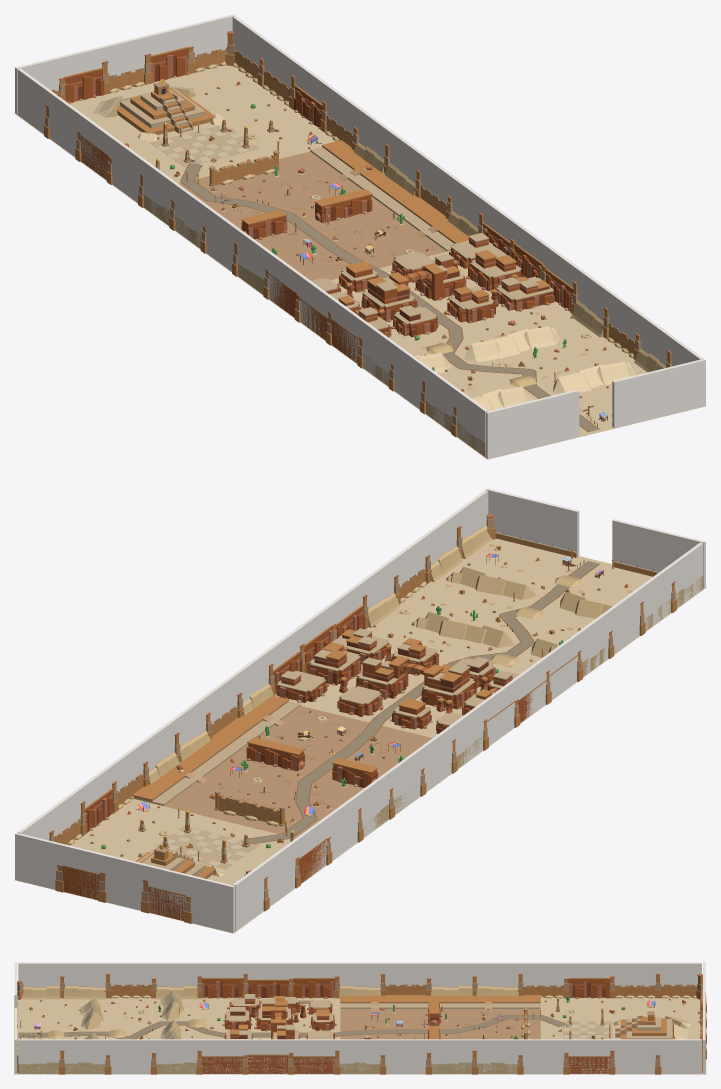
Rendered from CatCafe_Desert_Set.glb.
3 renders of one model, top to bottom at view 1: azimuth 30°, elevation 25°; view 2: azimuth 150°, elevation 25°; view 3: azimuth 270°, elevation 25°, orthographic. The views are drawn at different scales.
Parts seen in each view (by area): view 1: CatCafe_Desert_Set_075_Walls_Barrier, CatCafe_Desert_Set, CatCafe_Desert_Set_081_Canyon, CatCafe_Desert_Set_099_Terraces, CatCafe_Desert_Set_157_Pyramid, CatCafe_Desert_Set_100_MesaRidge, CatCafe_Desert_Set_076_DuneRidge, CatCafe_Desert_Set_077_DuneRidge, CatCafe_Desert_Set_101_RuinWall, CatCafe_Desert_Set_006_WallMesa, CatCafe_Desert_Set_002_WallMesa, CatCafe_Desert_Set_062_WallMesa (+2 smaller); view 2: CatCafe_Desert_Set_075_Walls_Barrier, CatCafe_Desert_Set, CatCafe_Desert_Set_081_Canyon, CatCafe_Desert_Set_099_Terraces, CatCafe_Desert_Set_100_MesaRidge, CatCafe_Desert_Set_076_DuneRidge, CatCafe_Desert_Set_077_DuneRidge, CatCafe_Desert_Set_157_Pyramid, CatCafe_Desert_Set_101_RuinWall, CatCafe_Desert_Set_002_WallMesa, CatCafe_Desert_Set_006_WallMesa, CatCafe_Desert_Set_062_WallMesa (+1 smaller); view 3: CatCafe_Desert_Set_075_Walls_Barrier, CatCafe_Desert_Set, CatCafe_Desert_Set_081_Canyon, CatCafe_Desert_Set_099_Terraces, CatCafe_Desert_Set_157_Pyramid, CatCafe_Desert_Set_017_WallMesa, CatCafe_Desert_Set_021_WallMesa, CatCafe_Desert_Set_033_WallMesa, CatCafe_Desert_Set_077_DuneRidge, CatCafe_Desert_Set_048_WallMesa, CatCafe_Desert_Set_019_WallMesa, CatCafe_Desert_Set_050_WallMesa (+21 smaller).
Boxes of the visible parts, <box> form: CatCafe_Desert_Set_075_Walls_Barrier: <box>15,14,705,458</box>; CatCafe_Desert_Set: <box>14,65,706,459</box>; CatCafe_Desert_Set_081_Canyon: <box>311,233,554,338</box>; CatCafe_Desert_Set_099_Terraces: <box>310,140,468,251</box>; CatCafe_Desert_Set_157_Pyramid: <box>93,79,224,141</box>; CatCafe_Desert_Set_100_MesaRidge: <box>241,189,372,239</box>; CatCafe_Desert_Set_076_DuneRidge: <box>472,361,635,411</box>; CatCafe_Desert_Set_077_DuneRidge: <box>414,326,560,373</box>; CatCafe_Desert_Set_101_RuinWall: <box>209,150,279,186</box>; CatCafe_Desert_Set_006_WallMesa: <box>64,67,104,104</box>; CatCafe_Desert_Set_002_WallMesa: <box>150,46,189,82</box>; CatCafe_Desert_Set_062_WallMesa: <box>292,84,322,128</box>; CatCafe_Desert_Set_075_Walls_Barrier: <box>15,488,705,932</box>; CatCafe_Desert_Set: <box>14,538,706,933</box>; CatCafe_Desert_Set_081_Canyon: <box>276,628,519,733</box>; CatCafe_Desert_Set_099_Terraces: <box>132,695,300,805</box>; CatCafe_Desert_Set_100_MesaRidge: <box>246,737,378,787</box>; CatCafe_Desert_Set_076_DuneRidge: <box>446,566,612,618</box>; CatCafe_Desert_Set_077_DuneRidge: <box>411,612,558,657</box>; CatCafe_Desert_Set_157_Pyramid: <box>135,845,224,878</box>; CatCafe_Desert_Set_101_RuinWall: <box>214,790,285,826</box>; CatCafe_Desert_Set_002_WallMesa: <box>62,865,100,899</box>; CatCafe_Desert_Set_006_WallMesa: <box>148,886,186,920</box>; CatCafe_Desert_Set_062_WallMesa: <box>85,788,114,832</box>; CatCafe_Desert_Set_075_Walls_Barrier: <box>14,962,705,1073</box>; CatCafe_Desert_Set: <box>14,995,706,1074</box>; CatCafe_Desert_Set_081_Canyon: <box>222,994,337,1039</box>; CatCafe_Desert_Set_099_Terraces: <box>340,995,540,1010</box>; CatCafe_Desert_Set_157_Pyramid: <box>613,1010,692,1039</box>; CatCafe_Desert_Set_017_WallMesa: <box>201,978,243,998</box>; CatCafe_Desert_Set_021_WallMesa: <box>293,978,335,998</box>; CatCafe_Desert_Set_033_WallMesa: <box>568,978,610,998</box>; CatCafe_Desert_Set_077_DuneRidge: <box>160,989,184,1039</box>; CatCafe_Desert_Set_048_WallMesa: <box>247,1054,289,1073</box>; CatCafe_Desert_Set_019_WallMesa: <box>247,979,289,998</box>; CatCafe_Desert_Set_050_WallMesa: <box>293,1056,335,1073</box>.
Size of the model in its own units: 151 by 31.42 by 561.
Materials: 1 (1 with a texture image).
